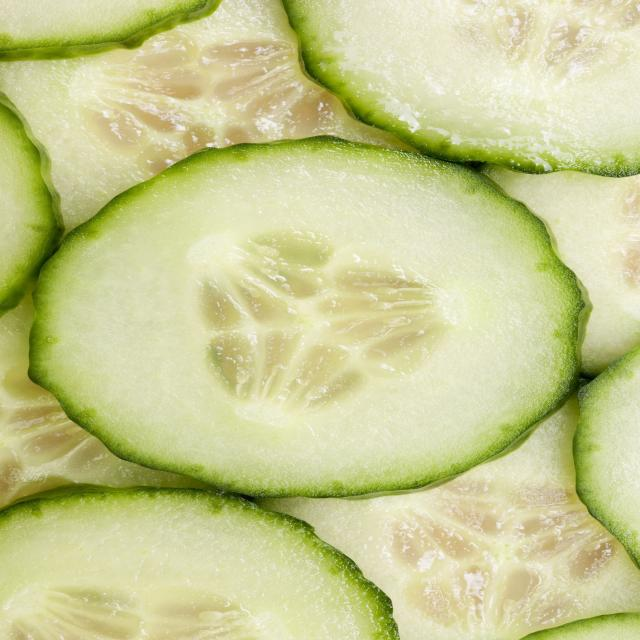Pickle: (30, 138, 581, 496), (285, 0, 639, 176), (2, 489, 398, 640)
